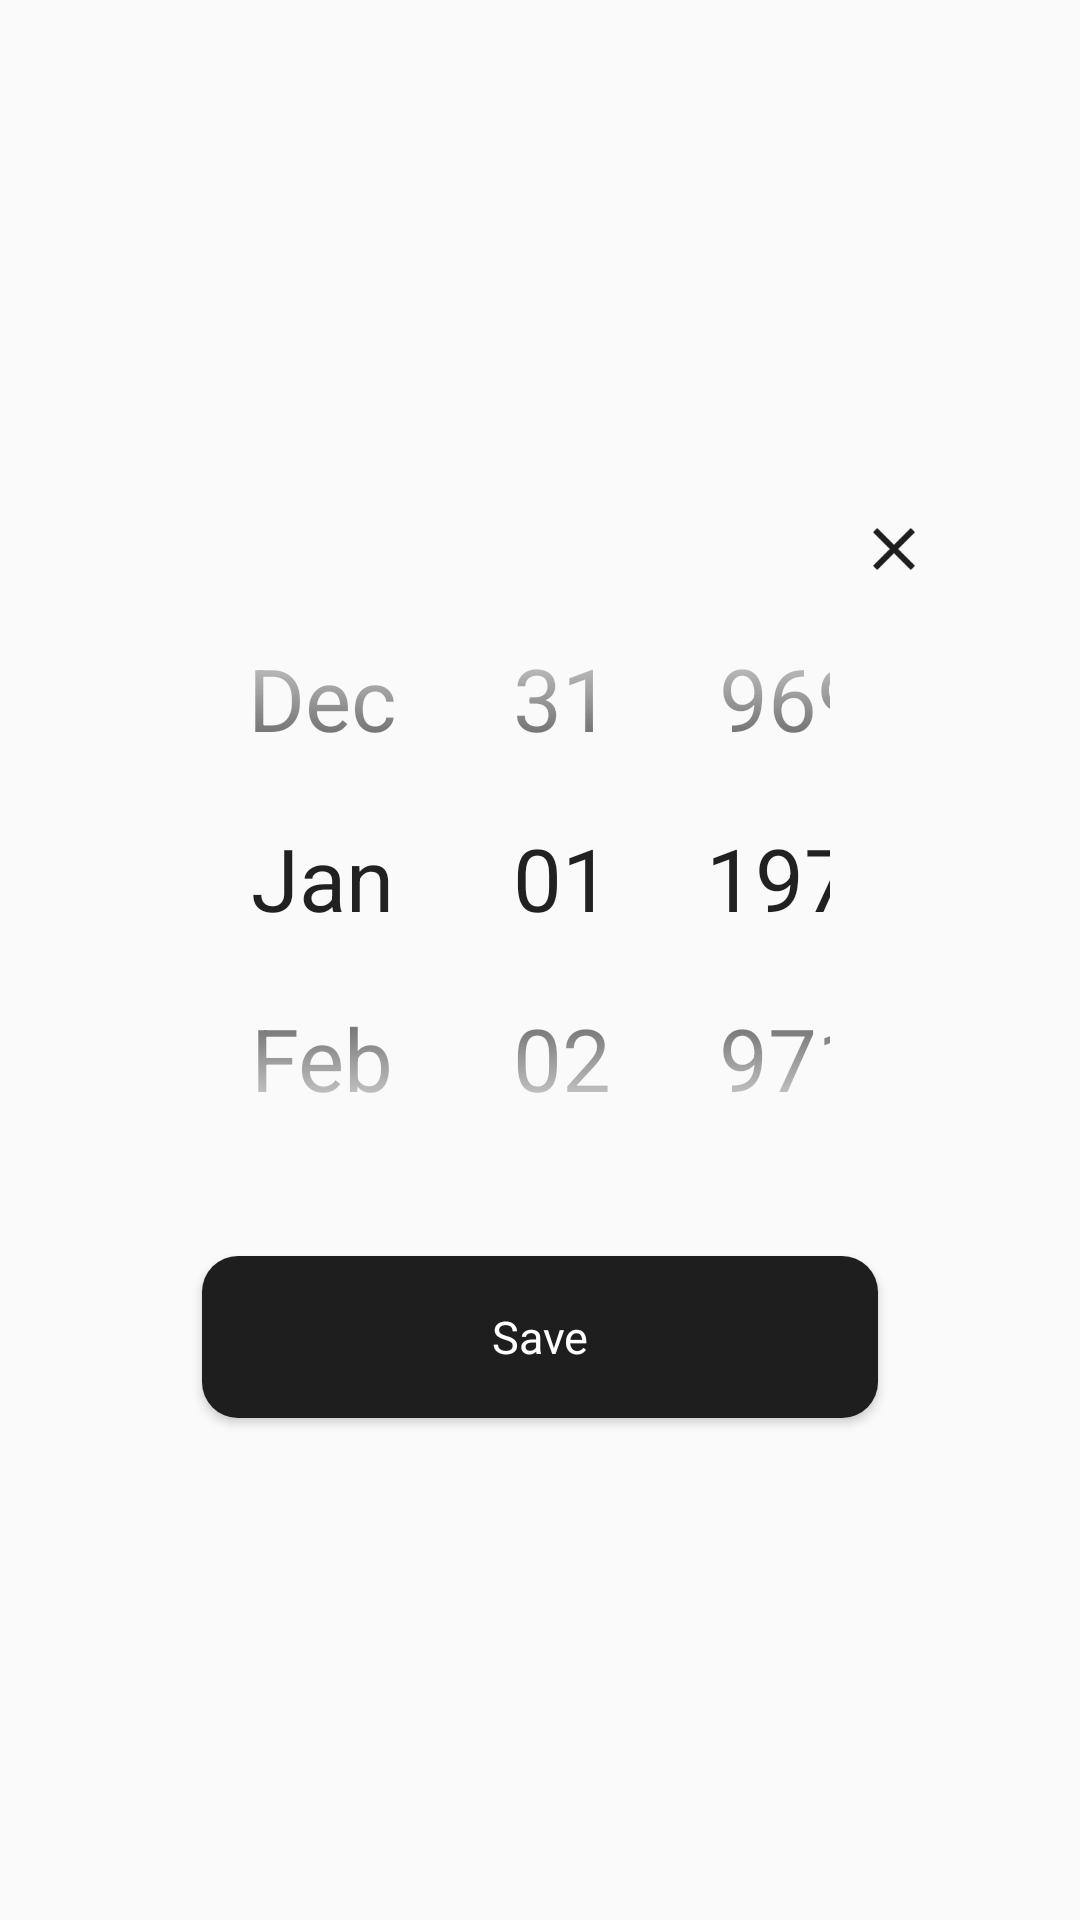

Screen size 1080x1920. Icon name, then its box in pixels as (x1, y1, x2, y2):
cancel: (873, 528, 915, 570)
